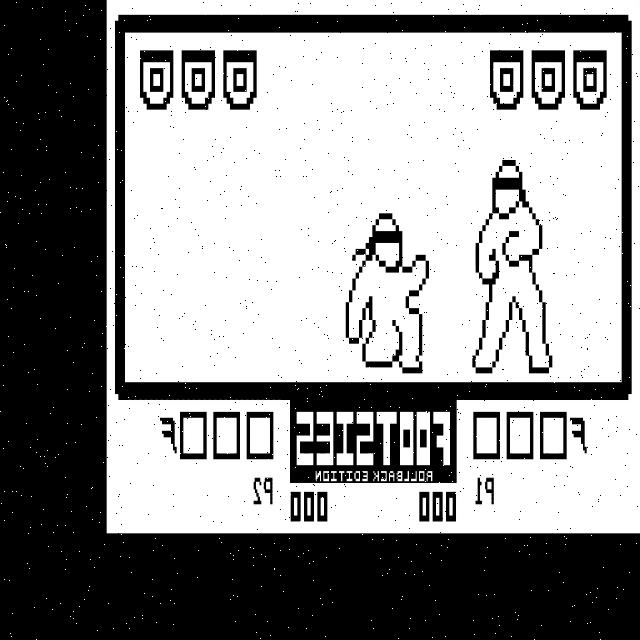Idle: (470, 150, 554, 375)
Kick: (336, 203, 435, 376)
